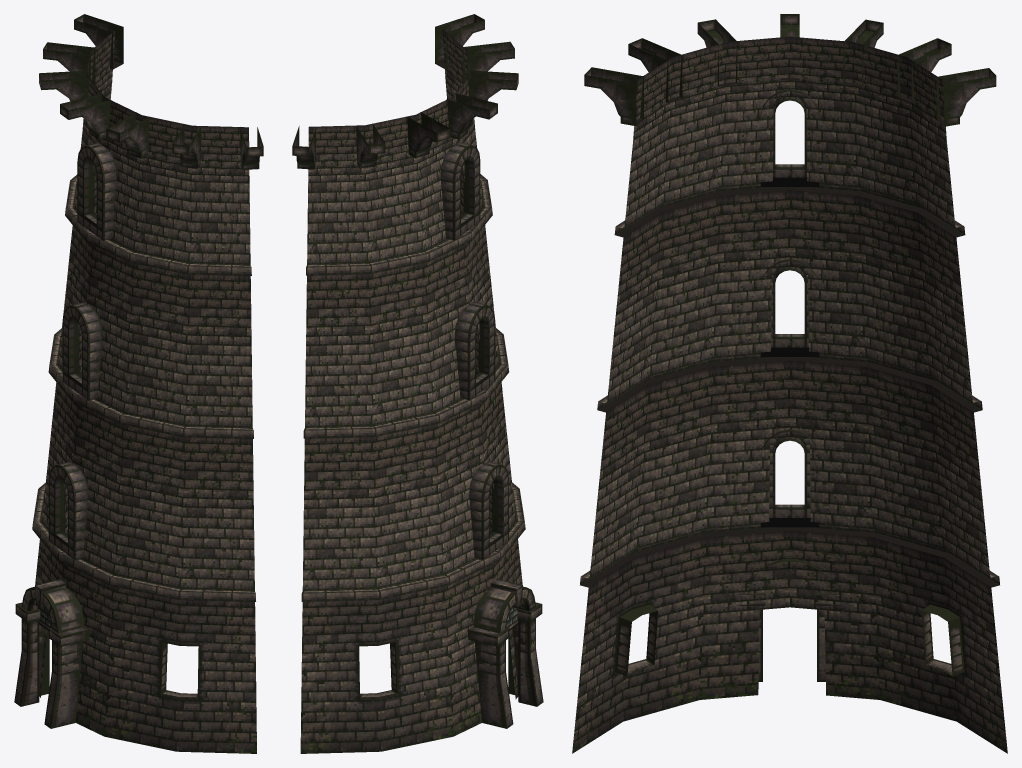
File: EnvBdgMD_Sea_Lighthouse_Wall.FBX
The picture shows the model from 3 angles, left to right: view 1: azimuth 30°, elevation 25°; view 2: azimuth 150°, elevation 25°; view 3: azimuth 270°, elevation 25°; orthographic projection. The views are drawn at different scales.
Visible parts, largest first — view 1: EnvBdgMD_Sea_Lighthouse_Wall; view 2: EnvBdgMD_Sea_Lighthouse_Wall; view 3: EnvBdgMD_Sea_Lighthouse_Wall.
Boxes of the visible parts, x1,y1,x2,y2 form: EnvBdgMD_Sea_Lighthouse_Wall: [14, 14, 263, 753]; EnvBdgMD_Sea_Lighthouse_Wall: [292, 14, 543, 753]; EnvBdgMD_Sea_Lighthouse_Wall: [572, 14, 1007, 753].
Size of the model in its own units: 425 by 1540 by 887.
Materials: 1 (1 with a texture image).
